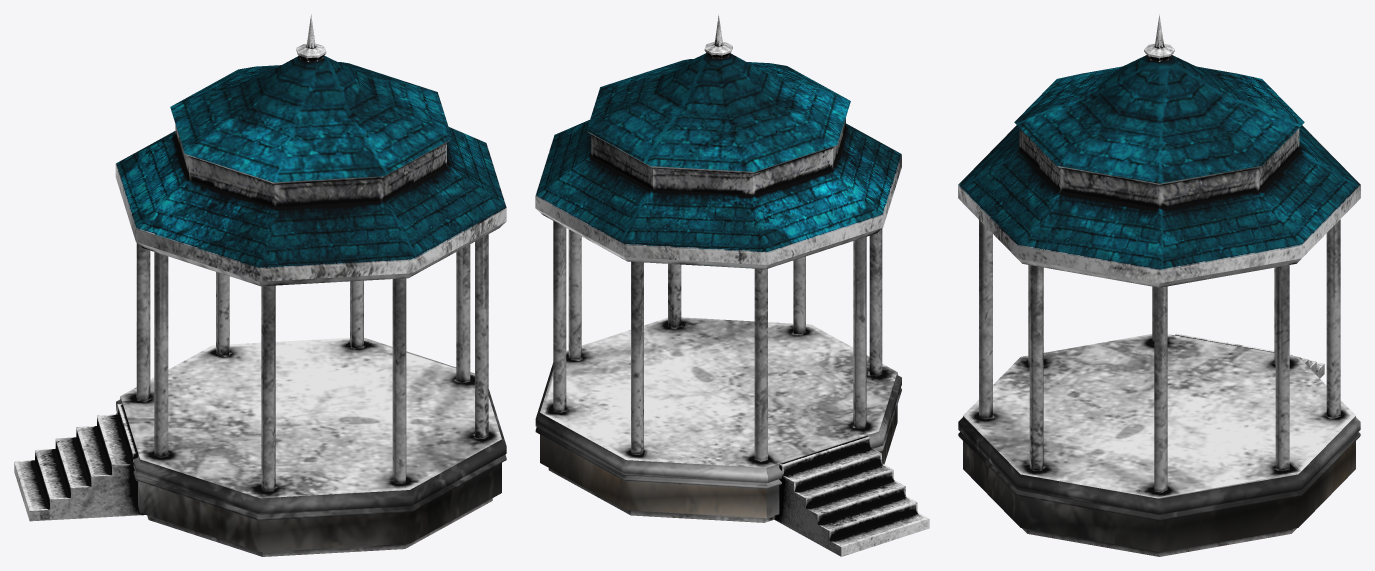
The model's file is SM_Kiosque.FBX.
3 renders of one model, left to right at view 1: azimuth 30°, elevation 25°; view 2: azimuth 150°, elevation 25°; view 3: azimuth 270°, elevation 25°, orthographic. The views are drawn at different scales.
Parts seen in each view (by area): view 1: Sign2; view 2: Sign2; view 3: Sign2.
Boxes of the visible parts, left/top/right/bottom form: Sign2: left=14, top=14, right=506, bottom=556; Sign2: left=535, top=14, right=929, bottom=556; Sign2: left=958, top=14, right=1360, bottom=556.
Size of the model in its own units: 1002 by 1042 by 820.
